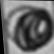correct: (3, 3, 54, 52)
